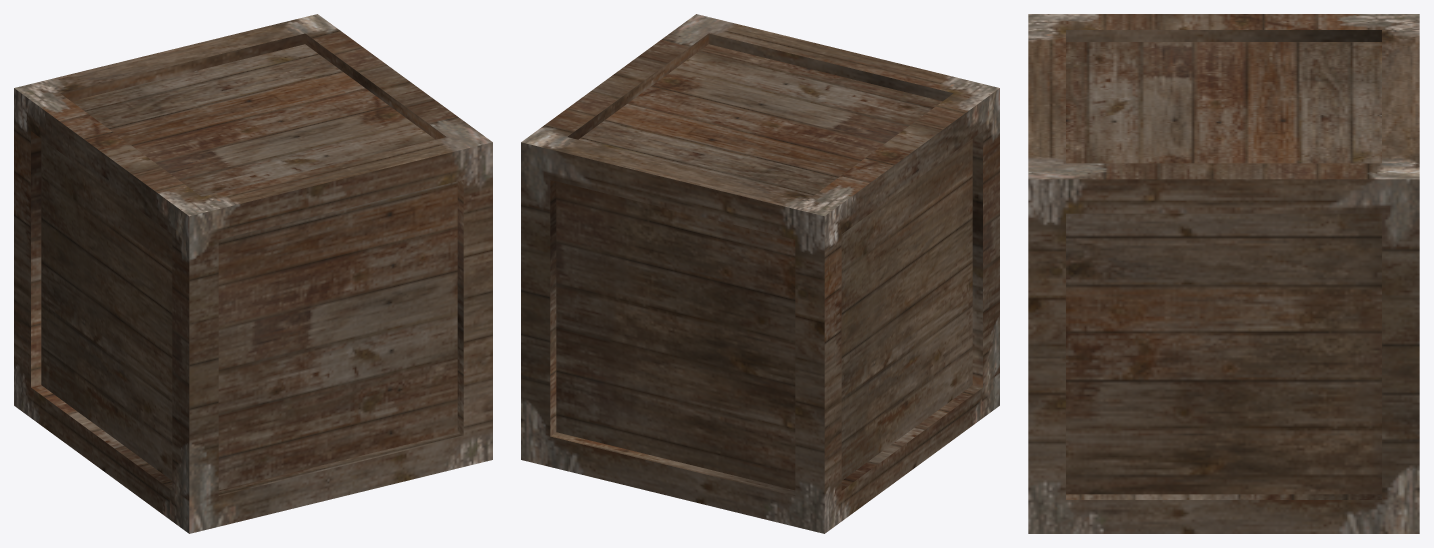
Rendered from WoodenCrate.fbx.
The picture shows the model from 3 angles, left to right: view 1: azimuth 30°, elevation 25°; view 2: azimuth 150°, elevation 25°; view 3: azimuth 270°, elevation 25°; orthographic projection. The views are drawn at different scales.
Parts seen in each view (by area): view 1: WoodenCrate; view 2: WoodenCrate; view 3: WoodenCrate.
Part boxes in pixels (left/top/right/bottom): WoodenCrate: left=14, top=14, right=492, bottom=533; WoodenCrate: left=521, top=14, right=999, bottom=533; WoodenCrate: left=1028, top=14, right=1419, bottom=533.
Bounding box in the file's own units: 100 × 100 × 100.
Materials: 1 (1 with a texture image).
